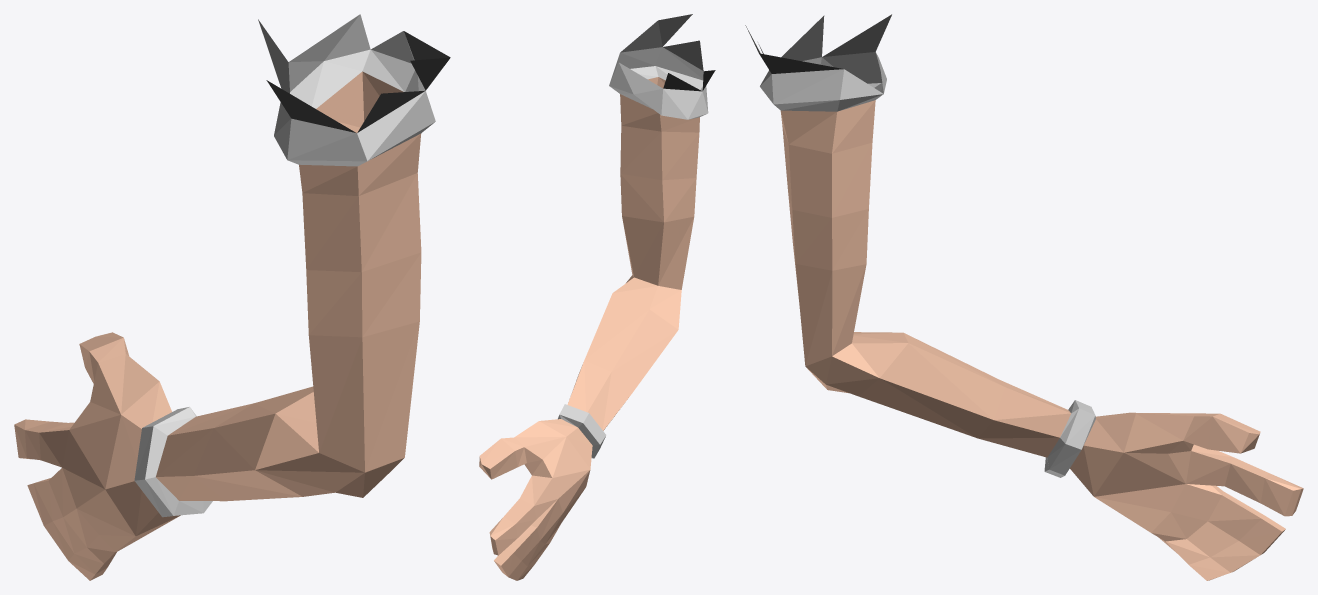
File: Mother_01_04_A_ArmL_64.obj
3 renders of one model, left to right at view 1: azimuth 30°, elevation 25°; view 2: azimuth 150°, elevation 25°; view 3: azimuth 270°, elevation 25°, orthographic. The views are drawn at different scales.
Visible parts, largest first — view 1: Mother_01_04_A_ArmL_64; view 2: Mother_01_04_A_ArmL_64; view 3: Mother_01_04_A_ArmL_64.
Boxes of the visible parts, x1,y1,x2,y2 form: Mother_01_04_A_ArmL_64: (14,14,450,580); Mother_01_04_A_ArmL_64: (479,14,715,580); Mother_01_04_A_ArmL_64: (745,14,1303,580).
Size of the model in its own units: 0.1419 by 0.6222 by 0.5599.
1 material, 1 textured.
